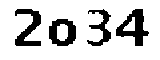2: (10, 4, 44, 50)
3: (83, 2, 113, 52)
4: (113, 4, 152, 50)
o: (46, 17, 79, 47)
